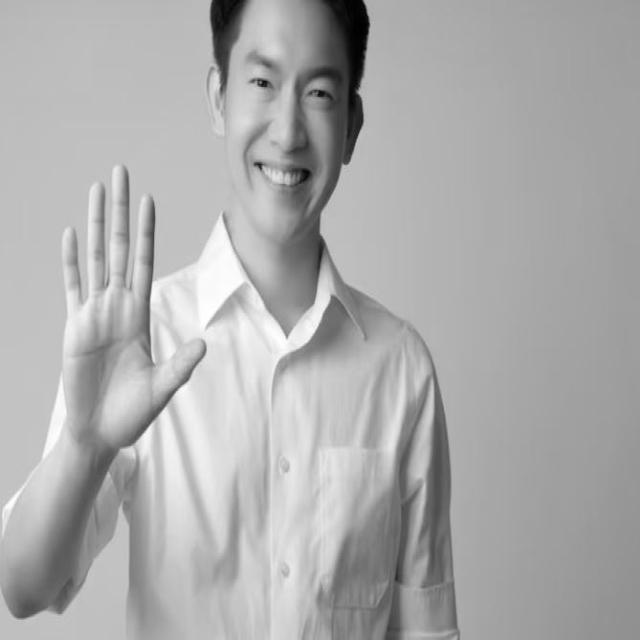stop: (56, 158, 210, 458)
